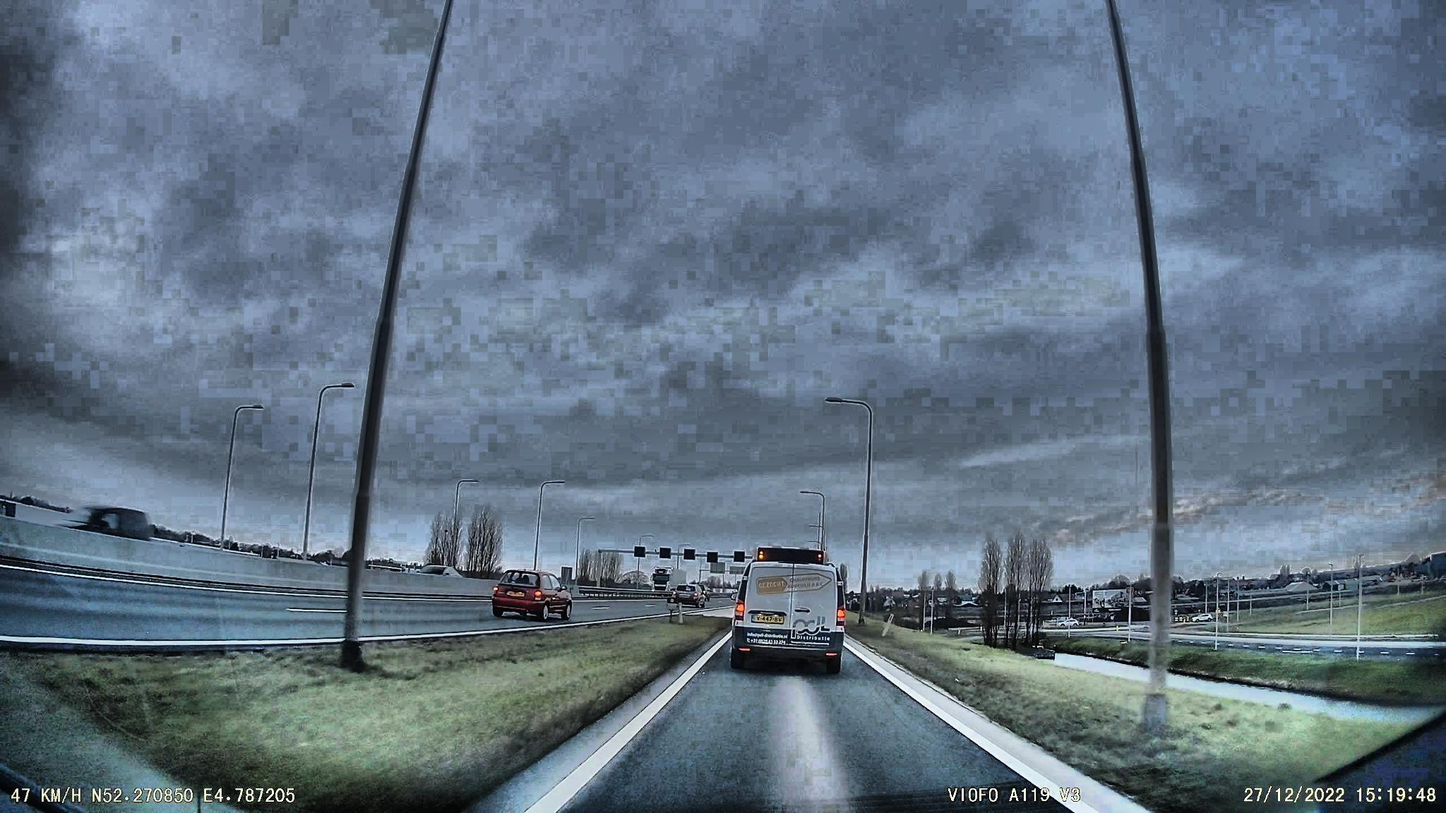Roads: (446, 637, 1159, 813), (0, 566, 552, 655)
